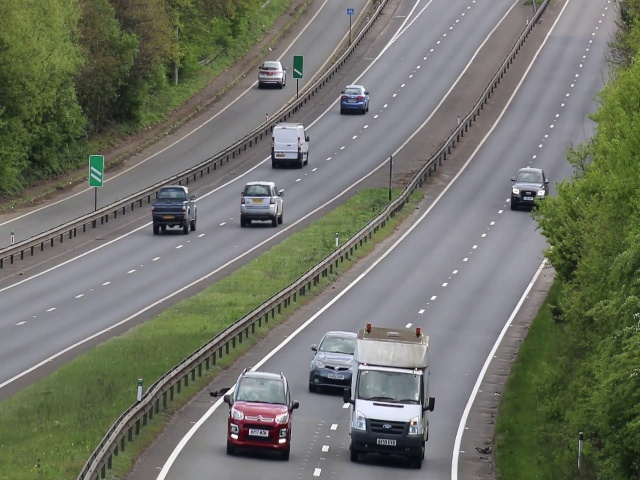car: (348, 366, 434, 465), (229, 372, 291, 461), (308, 331, 350, 394), (152, 185, 198, 234), (239, 181, 284, 226), (270, 121, 311, 168), (509, 167, 549, 212), (339, 83, 370, 115), (257, 60, 290, 89)
